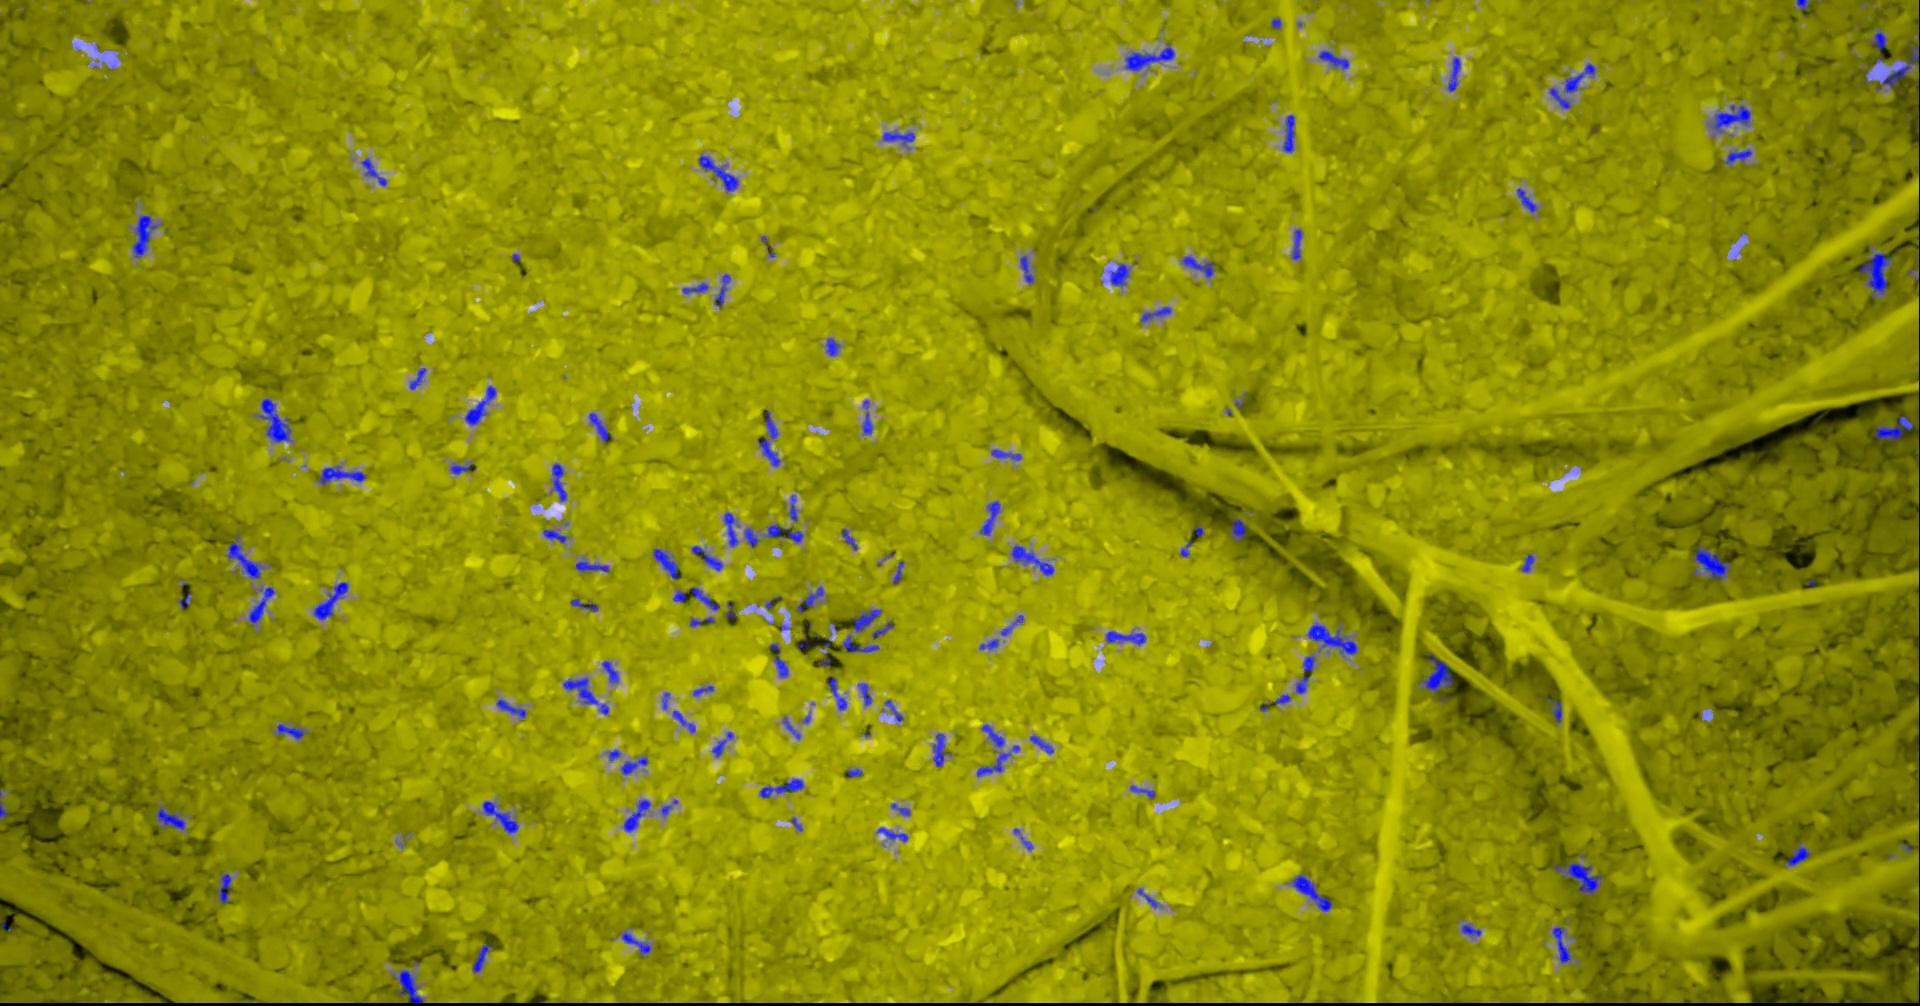ant: (1874, 391, 1919, 439), (1876, 41, 1919, 89), (563, 677, 608, 714), (225, 535, 263, 578), (1307, 622, 1357, 654), (1553, 862, 1601, 895), (1857, 251, 1890, 298), (1291, 874, 1331, 911), (259, 398, 291, 442), (698, 154, 737, 191), (1124, 43, 1175, 70), (1691, 545, 1730, 580), (312, 580, 348, 619), (1010, 545, 1053, 575), (757, 409, 780, 466), (463, 385, 495, 426), (1421, 653, 1451, 692), (483, 801, 518, 833), (1710, 104, 1750, 132), (132, 215, 157, 257), (392, 970, 423, 1005), (248, 586, 274, 622), (317, 465, 366, 484), (1564, 62, 1595, 91), (623, 799, 650, 831), (977, 751, 1010, 776), (691, 545, 723, 570), (653, 547, 678, 579), (621, 930, 650, 956), (1295, 655, 1316, 694), (759, 779, 803, 796), (1181, 257, 1215, 278), (361, 158, 386, 185), (979, 500, 999, 535), (768, 643, 789, 677), (825, 676, 846, 710), (155, 807, 185, 829), (841, 634, 879, 652), (766, 525, 803, 542), (1550, 927, 1570, 962), (797, 586, 823, 611), (690, 587, 717, 610), (853, 608, 881, 631), (472, 942, 494, 972), (1105, 630, 1145, 645), (588, 412, 608, 441), (932, 733, 950, 766), (1785, 841, 1810, 865), (1318, 50, 1349, 69), (711, 730, 733, 757), (551, 464, 566, 500), (714, 274, 730, 306), (982, 724, 1004, 747), (497, 699, 524, 716), (620, 756, 648, 774), (1001, 614, 1023, 635), (672, 710, 695, 732), (1516, 188, 1537, 212), (1140, 306, 1170, 323), (723, 512, 737, 546), (1548, 86, 1570, 108), (1109, 263, 1129, 286), (216, 873, 231, 903), (1029, 735, 1053, 754), (276, 723, 305, 738), (883, 131, 914, 145), (1448, 57, 1460, 91), (1283, 114, 1294, 152), (876, 827, 907, 841), (1137, 888, 1158, 907), (884, 699, 902, 721), (782, 716, 800, 739), (1018, 255, 1032, 283), (601, 661, 618, 682), (1724, 149, 1751, 163), (1230, 517, 1246, 541), (1545, 697, 1561, 721), (409, 367, 425, 389), (1129, 784, 1154, 798), (862, 400, 872, 434), (570, 598, 597, 611), (542, 528, 566, 542), (575, 561, 608, 572), (743, 527, 759, 546), (1291, 229, 1302, 259), (841, 528, 856, 549), (682, 282, 709, 293), (857, 683, 871, 705), (990, 448, 1020, 459), (872, 622, 893, 636), (1870, 30, 1884, 50), (450, 464, 475, 474), (825, 337, 839, 354), (690, 616, 714, 626), (1521, 553, 1534, 572), (0, 788, 8, 819), (890, 803, 909, 815), (1462, 923, 1481, 936), (789, 494, 797, 521), (893, 560, 903, 583), (692, 685, 712, 696), (1796, 0, 1810, 17), (978, 639, 998, 649), (1272, 694, 1290, 704), (672, 591, 686, 601), (846, 768, 862, 776), (1917, 749, 1919, 801)
